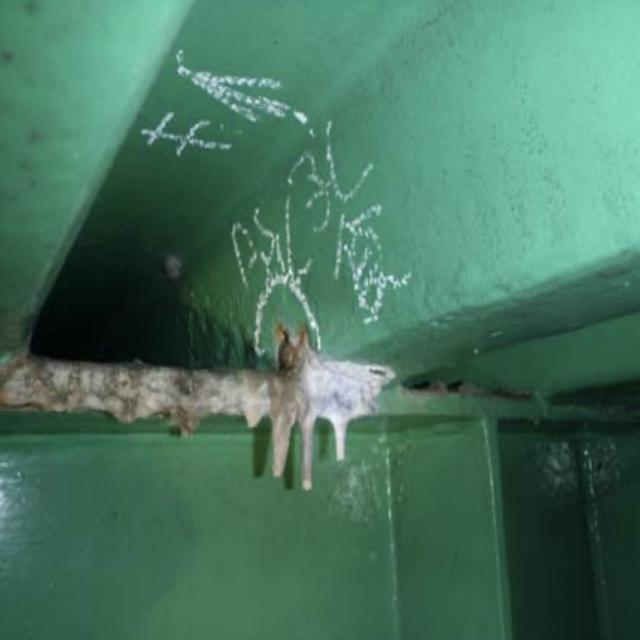freelime: (24, 323, 394, 466)
